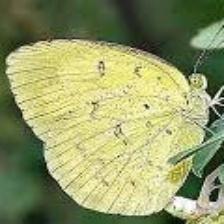butterfly: (6, 41, 211, 216)
